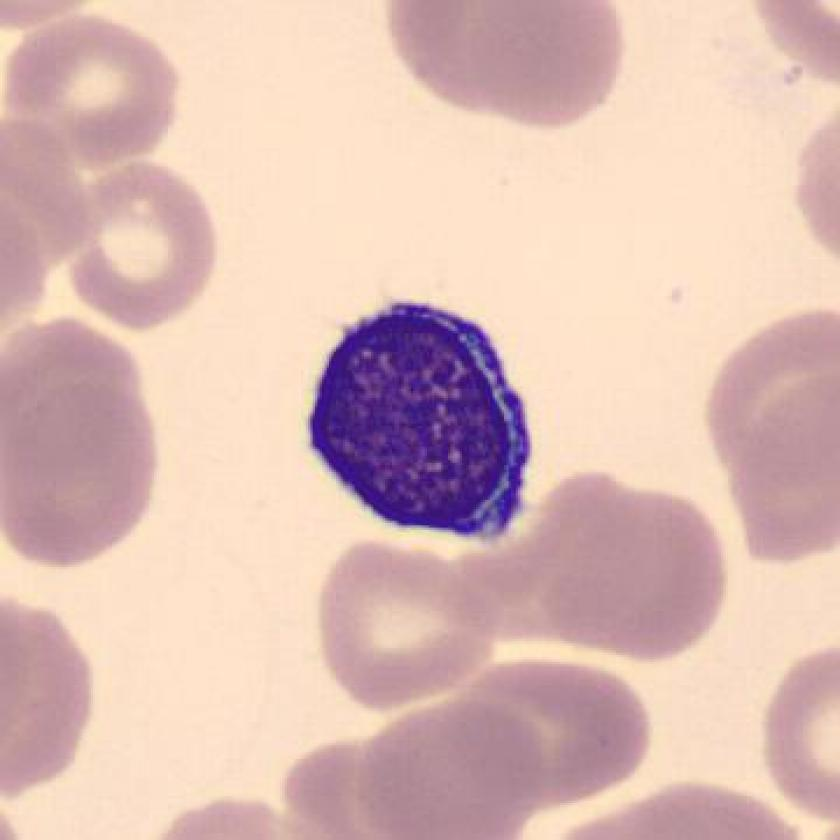lymphocyte: (291, 286, 557, 556)
